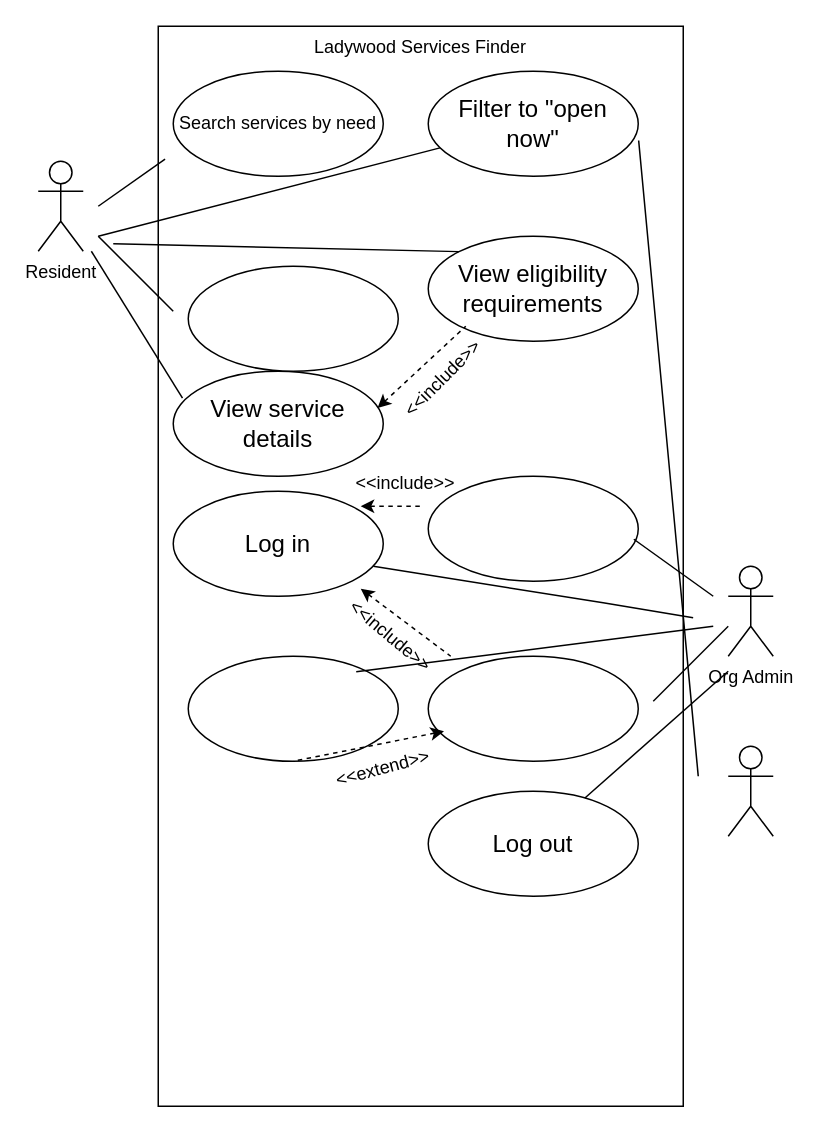
The diagram is 827 pixels wide and 1133 high, and some of its shapes have lost their labels. The centre of each missing label's shape, as x and y in pixels:
<<system>> Time: the point at 750,790
Add a service: the point at 532,528
Edit a service: the point at 532,708
Filter by language spoken: the point at 292,318
Mark service as temporarily closed: the point at 292,708
